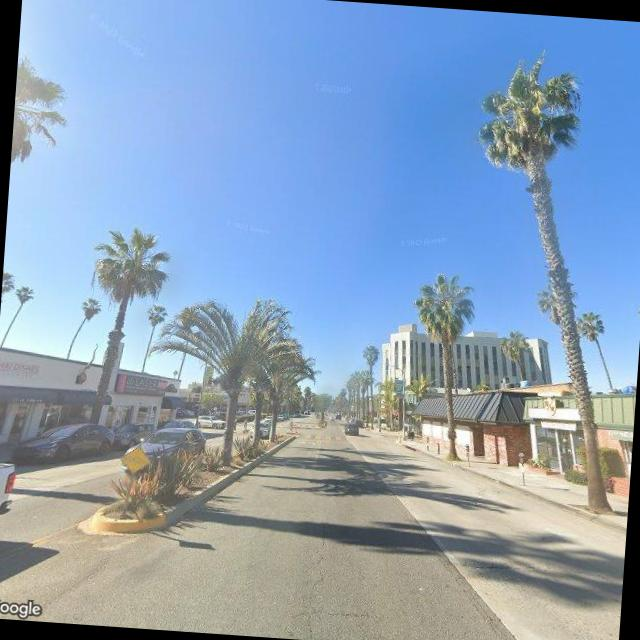pothole: (294, 524, 335, 638)
